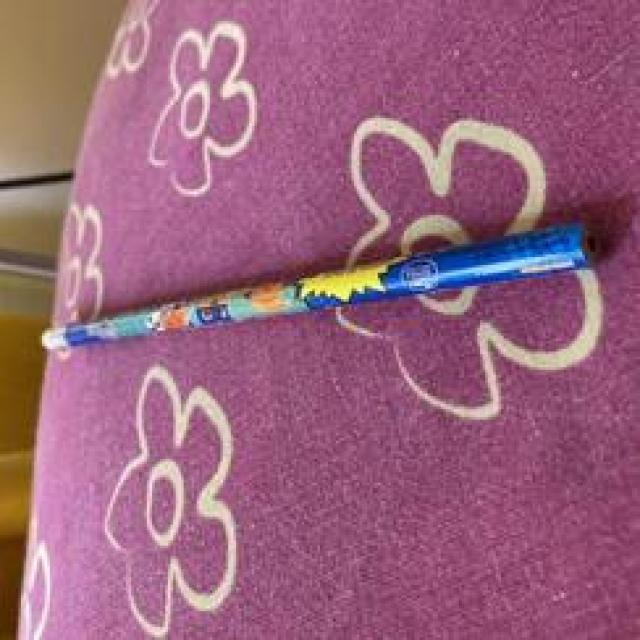pencil: (39, 220, 598, 354)
